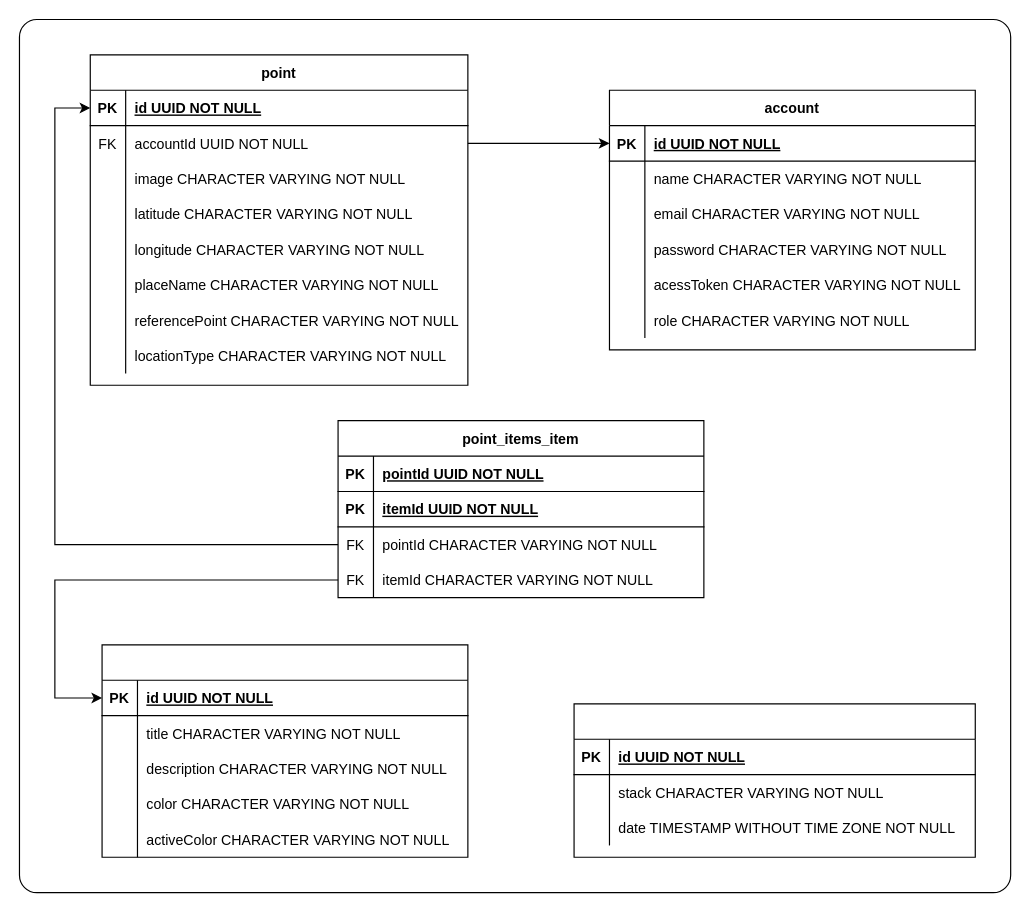
Some shapes in this 1030 by 912 pixel diagram are drawn without their labels. Here are the shapes that lost their labels. From the top down, the box of each, then its label:
(101, 644, 468, 857): item
(573, 703, 975, 857): logger
